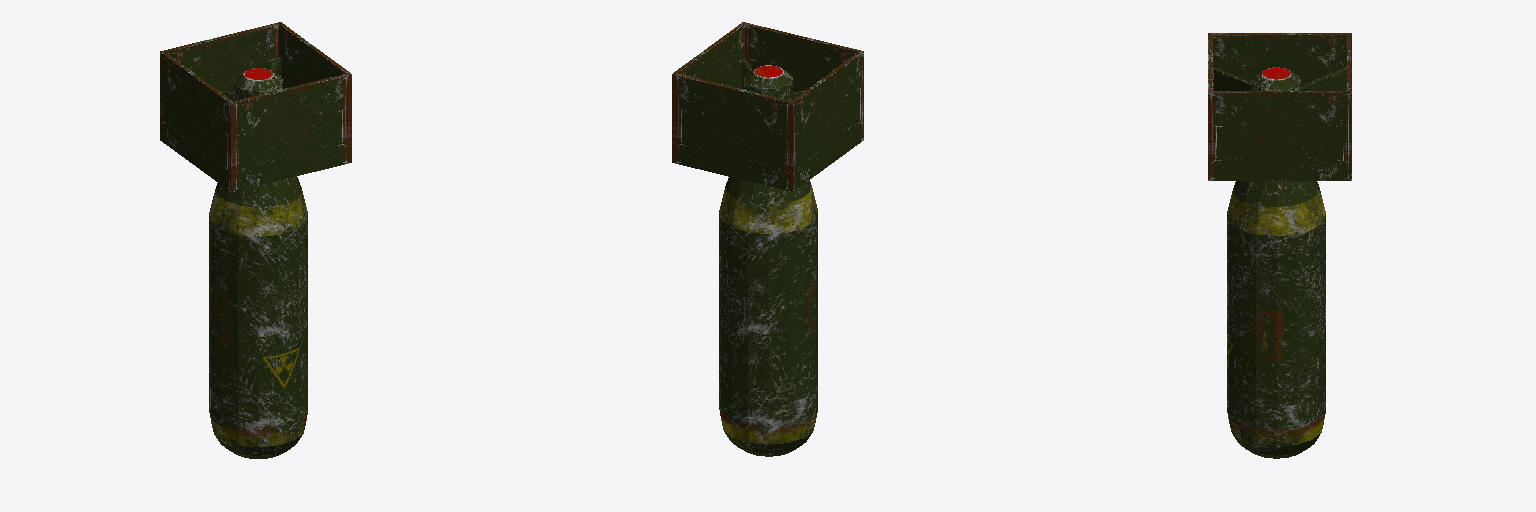
3 renders of one model, left to right at view 1: azimuth 30°, elevation 25°; view 2: azimuth 150°, elevation 25°; view 3: azimuth 270°, elevation 25°, orthographic.
Parts seen in each view (by area): view 1: Object.2; view 2: Object.2; view 3: Object.2.
Boxes of the visible parts, x1=… form: Object.2: x1=160, y1=22, x2=351, y2=458; Object.2: x1=672, y1=22, x2=863, y2=456; Object.2: x1=1208, y1=33, x2=1351, y2=458.
Size of the model in its own units: 7936 by 24171 by 8117.
Materials: 1 (1 with a texture image).